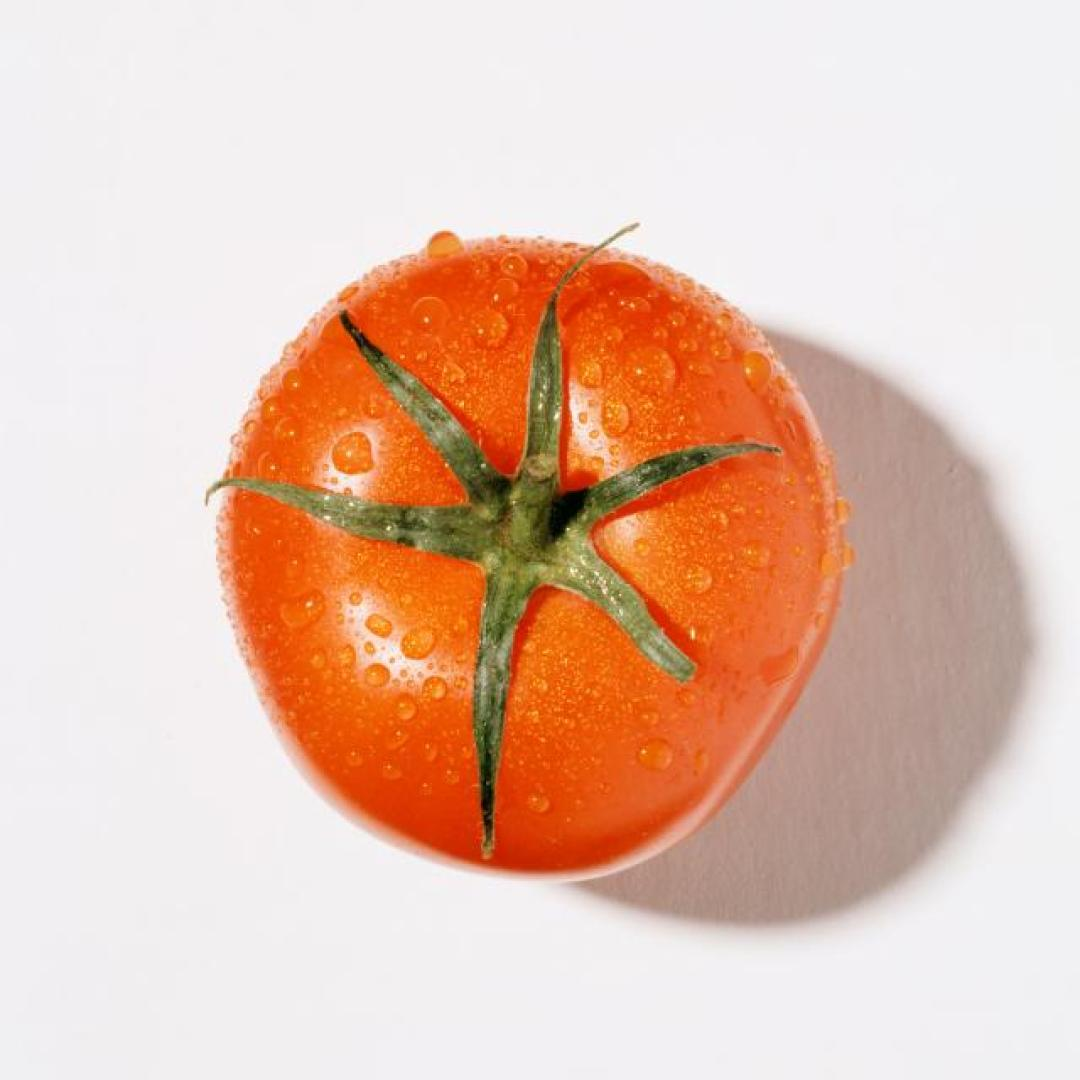matang: (215, 235, 846, 879)
